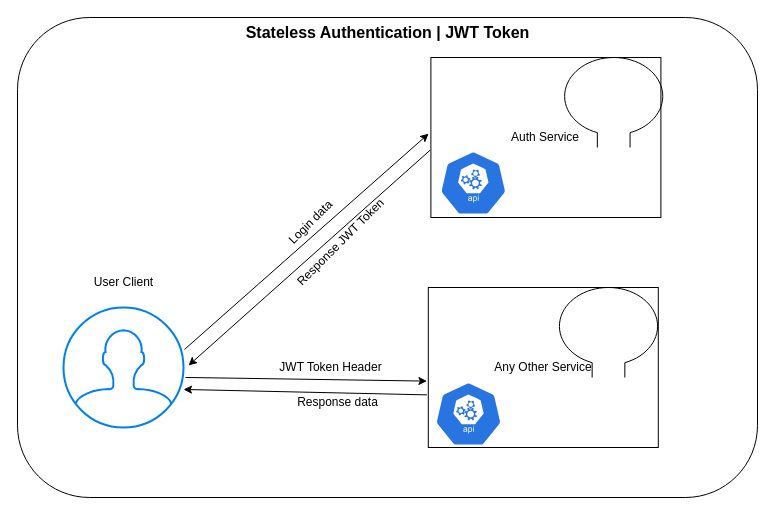
Some shapes in this 775 by 515 pixel diagram are drawn without their labels. The centre of each missing label's shape, as x and y in pixels:
Validate JWT Token Signature: (x=608, y=332)
Validate Login Generate JWT: (x=613, y=102)
